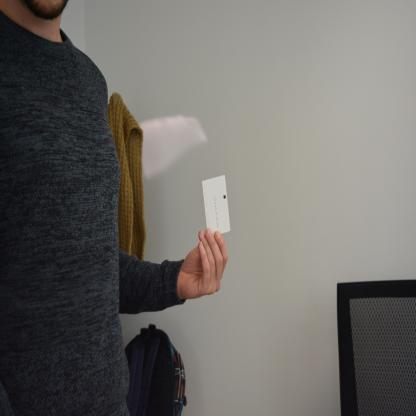tarjeta: (202, 174, 231, 237)
